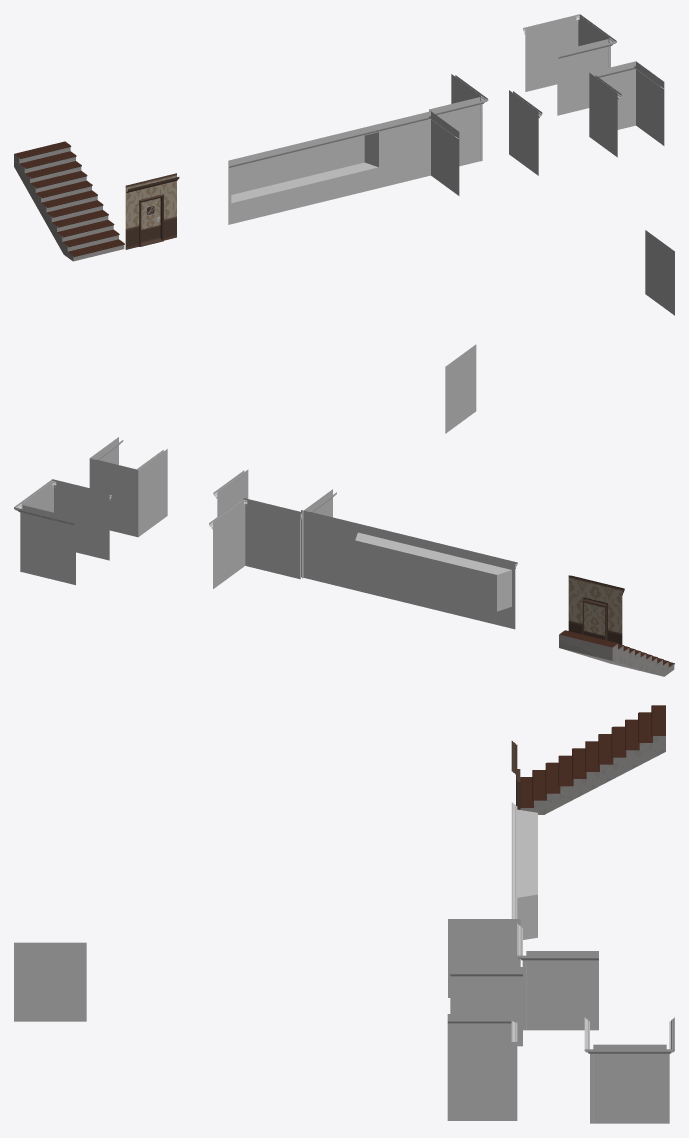
Rendered from Walls.fbx.
3 views of the same model, one above another, from view 1: azimuth 30°, elevation 25°; view 2: azimuth 150°, elevation 25°; view 3: azimuth 270°, elevation 25° (orthographic). The views are drawn at different scales.
Parts seen in each view (by area): view 1: Stairs, Wall.CornerOutside.Double, Wall.CornerInside.Double, Wall.CornerInside, Wall_Extruded1.Right, Wall.Door1, Wall_Extruded1.Center, Wall_Extruded1.Left, Wall.CornerOutside, Wall, Wall.WithoutAddings; view 2: Wall.CornerOutside.Double, Wall.CornerOutside, Wall.CornerInside.Double, Wall.CornerInside, Wall_Extruded1.Left, Wall_Extruded1.Center, Wall_Extruded1.Right, Wall.Door1, Stairs, Wall.WithoutAddings, Wall; view 3: Wall.CornerInside.Double, Stairs, Wall.CornerOutside.Double, Wall.CornerOutside, Wall.WithoutAddings, Wall.CornerInside, Wall, Wall_Extruded1.Right, Wall_Extruded1.Center, Wall_Extruded1.Left.
Boxes of the visible parts, x1,y1,x2,y2 form: Stairs: (14, 141, 124, 261); Wall.CornerOutside.Double: (523, 14, 616, 115); Wall.CornerInside.Double: (589, 61, 664, 157); Wall.CornerInside: (382, 110, 459, 195); Wall_Extruded1.Right: (322, 123, 384, 199); Wall.Door1: (125, 173, 179, 249); Wall_Extruded1.Center: (271, 135, 332, 212); Wall_Extruded1.Left: (228, 148, 281, 224); Wall.CornerOutside: (429, 74, 488, 166); Wall: (509, 90, 542, 175); Wall.WithoutAddings: (645, 230, 674, 315); Wall.CornerOutside.Double: (14, 479, 111, 585); Wall.CornerOutside: (209, 498, 301, 588); Wall.CornerInside.Double: (89, 437, 167, 537); Wall.CornerInside: (301, 489, 356, 589); Wall_Extruded1.Left: (453, 549, 517, 629); Wall_Extruded1.Center: (399, 536, 463, 616); Wall_Extruded1.Right: (354, 523, 410, 602); Wall.Door1: (568, 575, 624, 644); Stairs: (559, 630, 674, 676); Wall.WithoutAddings: (445, 344, 476, 433); Wall: (213, 469, 248, 516); Wall.CornerInside.Double: (447, 1014, 517, 1120); Stairs: (520, 705, 665, 814); Wall.CornerOutside.Double: (584, 1017, 674, 1123); Wall.CornerOutside: (517, 923, 598, 1030); Wall.WithoutAddings: (14, 942, 86, 1021); Wall.CornerInside: (448, 894, 520, 997); Wall: (450, 967, 522, 1046); Wall_Extruded1.Right: (511, 863, 537, 939); Wall_Extruded1.Center: (511, 833, 537, 868); Wall_Extruded1.Left: (511, 802, 537, 838).
Size of the model in its own units: 2779 by 300 by 2272.
